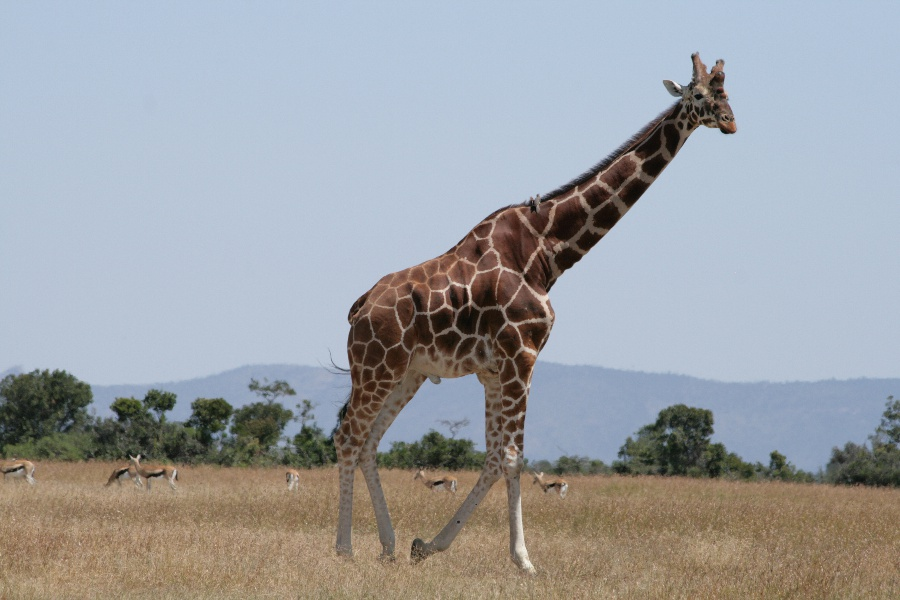giraffe: (320, 45, 742, 576)
